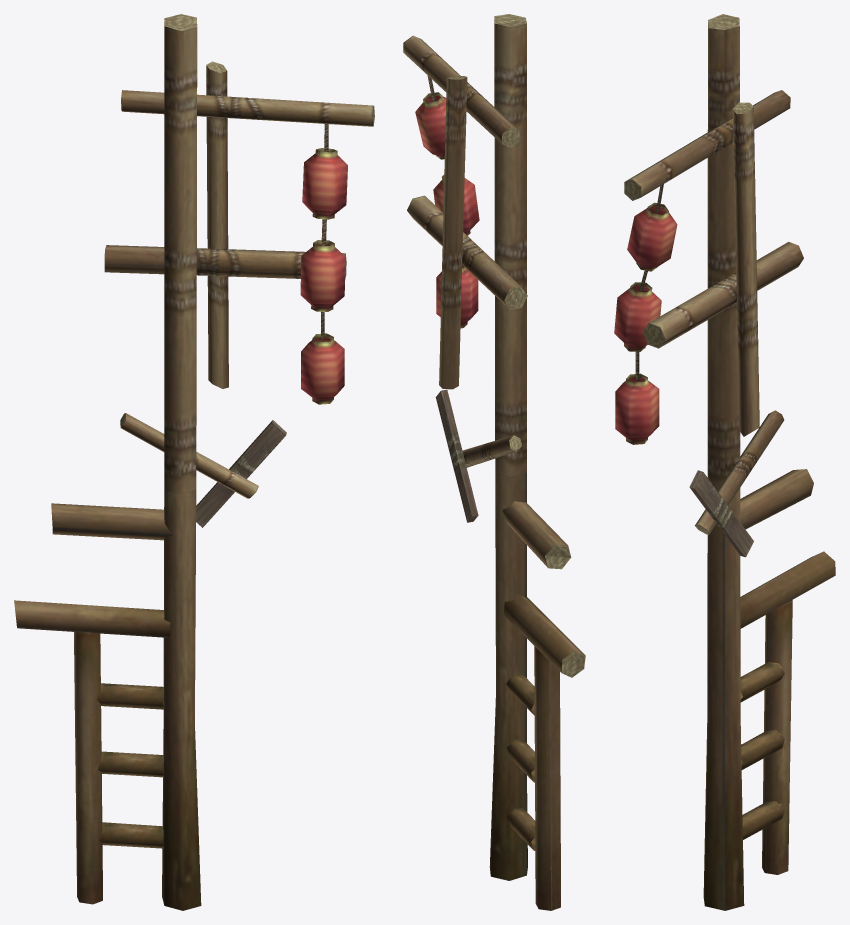
Rendered from DBXJ_02.FBX.
3 renders of one model, left to right at view 1: azimuth 30°, elevation 25°; view 2: azimuth 150°, elevation 25°; view 3: azimuth 270°, elevation 25°, orthographic. The views are drawn at different scales.
Visible parts, largest first — view 1: DBXJ_02; view 2: DBXJ_02; view 3: DBXJ_02.
Boxes of the visible parts, x1=… form: DBXJ_02: x1=14, y1=14, x2=374, y2=910; DBXJ_02: x1=403, y1=14, x2=585, y2=910; DBXJ_02: x1=614, y1=14, x2=835, y2=910.
Bounding box in the file's own units: 227 × 697 × 159.
Materials: 1 (1 with a texture image).
